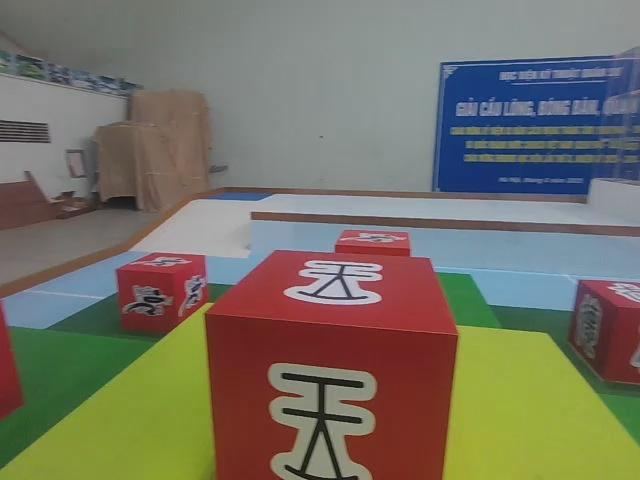R1: (115, 249, 209, 337)
R2 Fake: (563, 275, 640, 388)
R2 Real: (203, 246, 462, 480)
